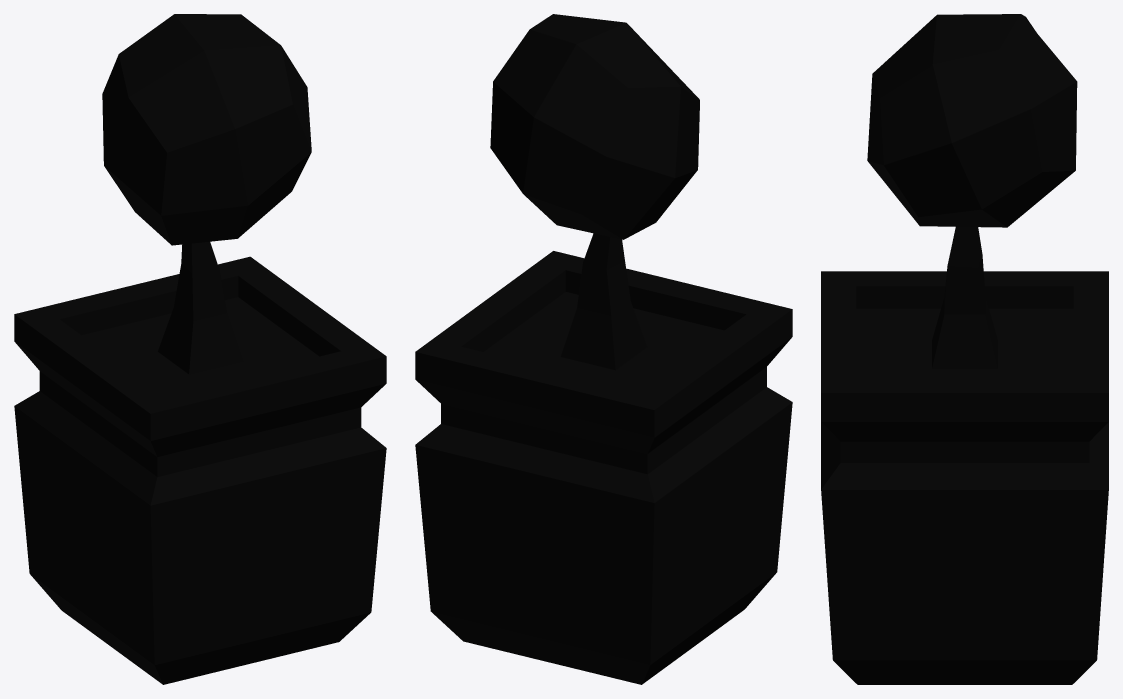
Rendered from Plant in pot.fbx.
3 views of the same model, side by side, from view 1: azimuth 30°, elevation 25°; view 2: azimuth 150°, elevation 25°; view 3: azimuth 270°, elevation 25° (orthographic). The views are drawn at different scales.
Visible parts, largest first — view 1: Plant in pot [Plane]; view 2: Plant in pot [Plane]; view 3: Plant in pot [Plane].
Part boxes in pixels (bbox=[...]): Plant in pot [Plane]: bbox=[14, 14, 386, 684]; Plant in pot [Plane]: bbox=[415, 14, 792, 684]; Plant in pot [Plane]: bbox=[821, 14, 1108, 684].
Bounding box in the file's own units: 47.15 × 113 × 47.15.
